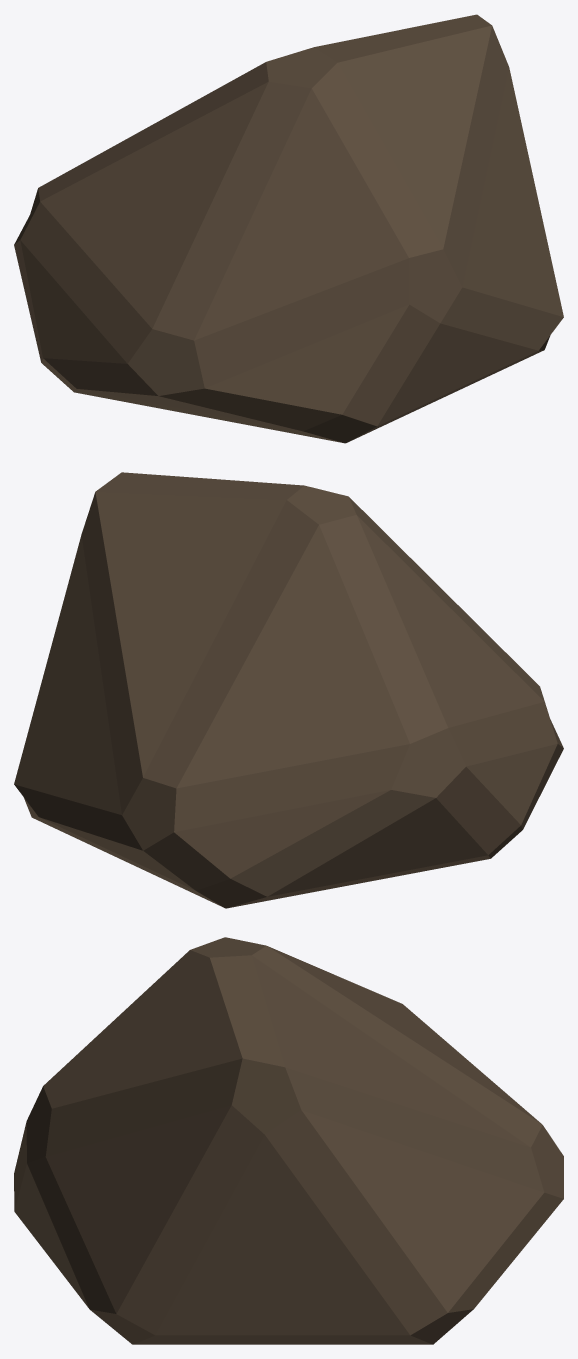
File: Stone_1_Brown.fbx
3 views of the same model, one above another, from view 1: azimuth 30°, elevation 25°; view 2: azimuth 150°, elevation 25°; view 3: azimuth 270°, elevation 25° (orthographic). The views are drawn at different scales.
Visible parts, largest first — view 1: Stone_1_Brown; view 2: Stone_1_Brown; view 3: Stone_1_Brown.
Part boxes in pixels (bbox=[...]): Stone_1_Brown: bbox=[14, 14, 563, 443]; Stone_1_Brown: bbox=[14, 472, 563, 908]; Stone_1_Brown: bbox=[14, 937, 563, 1344].
Bounding box in the file's own units: 165 × 105 × 172.
